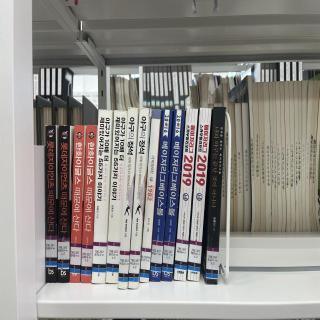book-spine: (187, 107, 212, 281), (149, 109, 173, 282), (174, 108, 198, 281), (161, 109, 185, 281), (105, 110, 128, 284), (117, 108, 138, 289), (128, 108, 149, 289), (91, 109, 112, 284), (206, 106, 226, 284), (140, 109, 160, 283), (69, 125, 85, 283), (81, 125, 97, 283), (57, 126, 70, 283), (45, 125, 57, 283)
